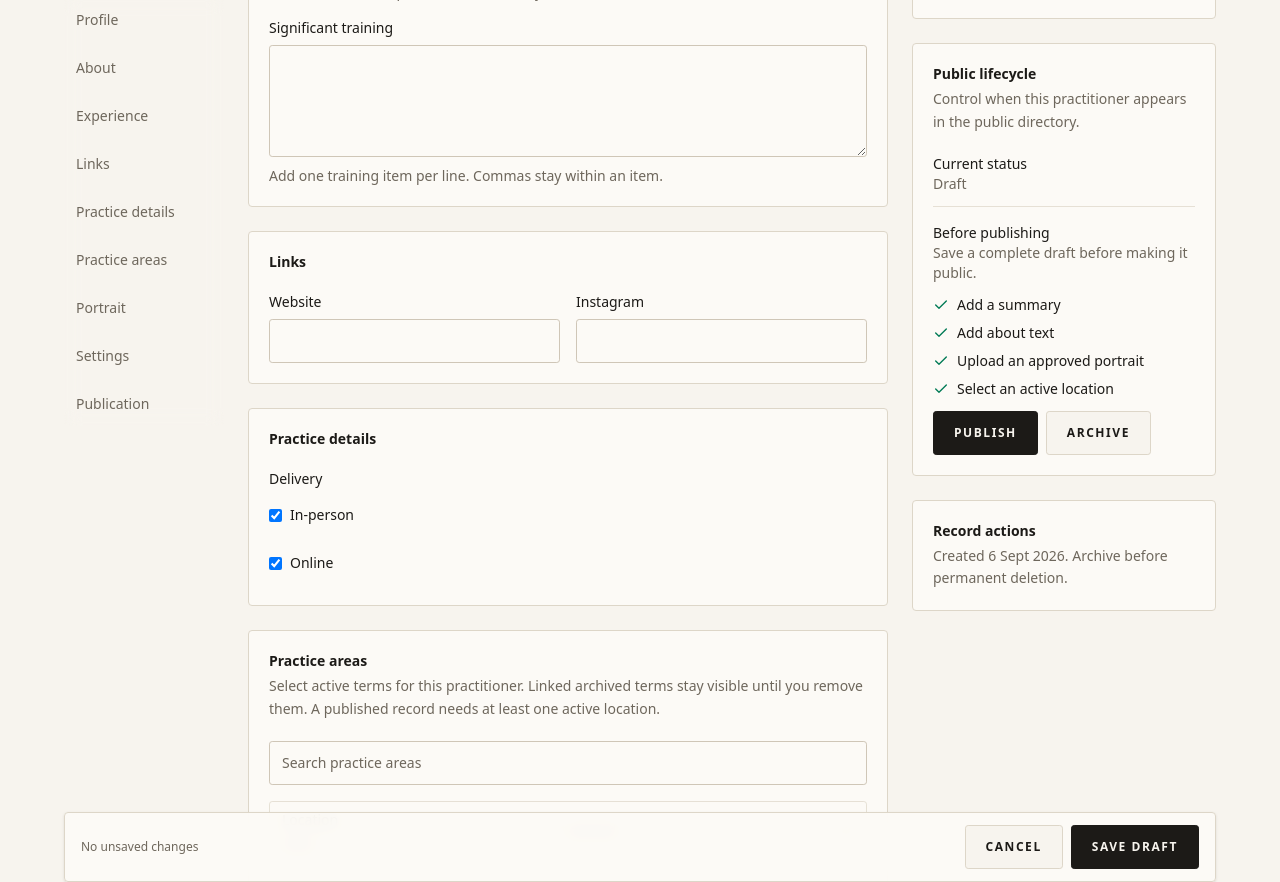
practitioner draft workflow › publishes a saved complete draft through the separate publish action
(page scrolled)
Click the button "Publish" at (985, 432), box [933,410,1038,454]
(page scrolled)
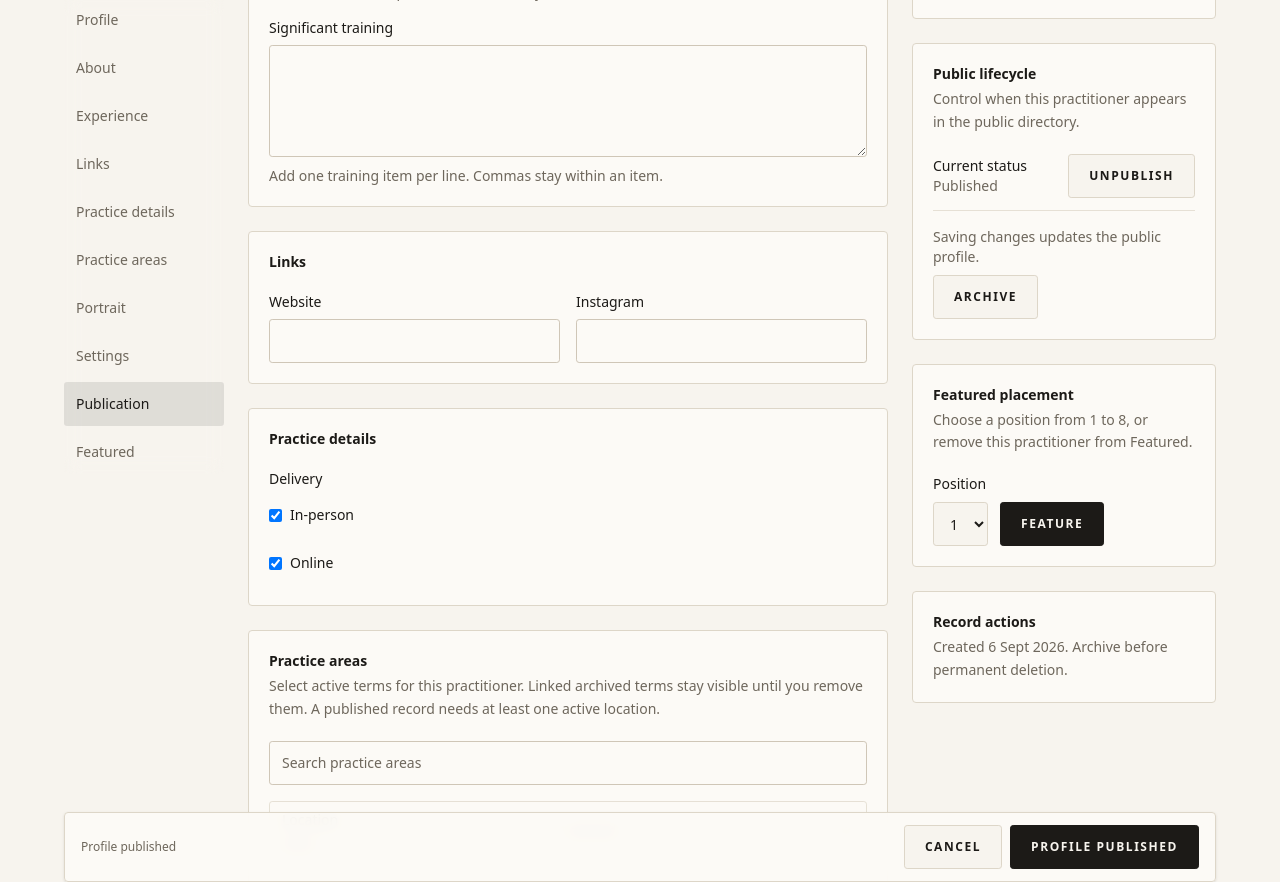
Check: the button "Profile published" is shown, box [1010,825,1199,869]
